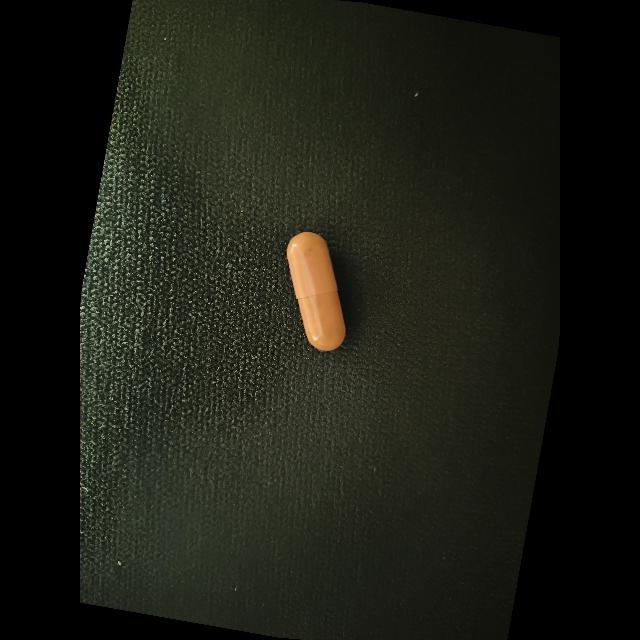Intact Capsule: (287, 232, 345, 351)
